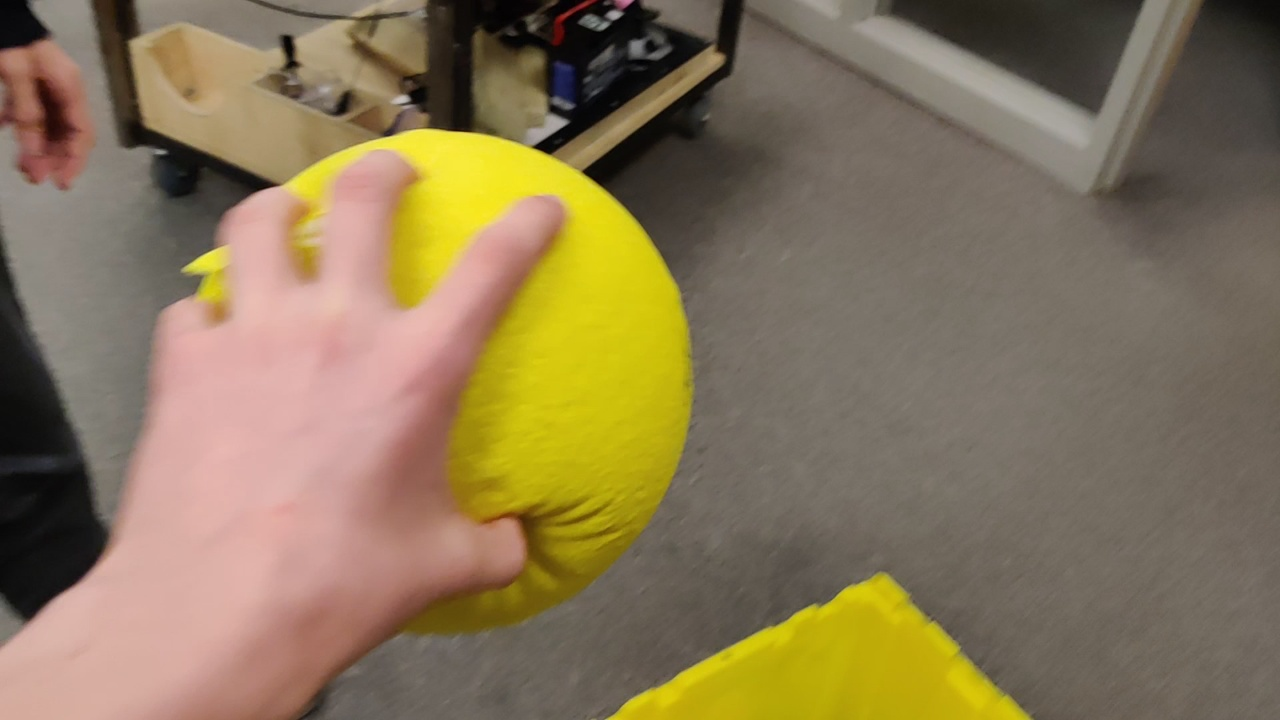Ball: (448, 167, 703, 516)
